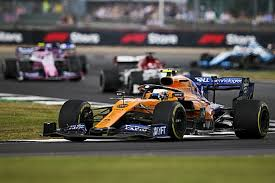FormulaOneCar: (40, 66, 272, 147), (96, 52, 204, 92), (3, 45, 86, 82)
